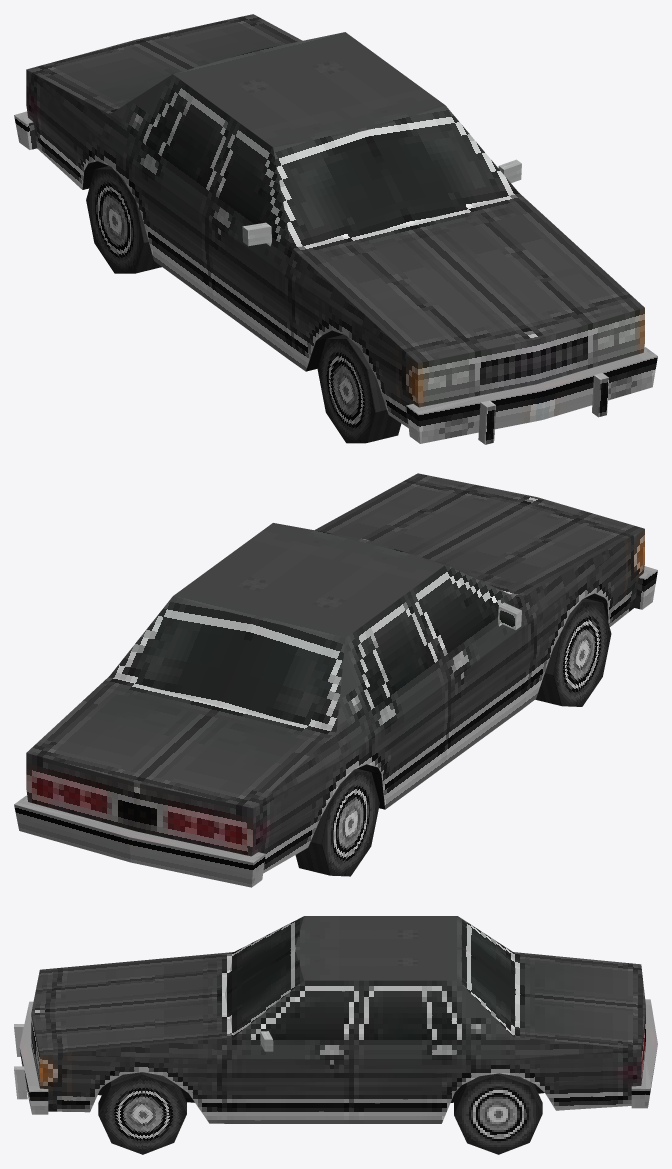
Rendered from car5-grey.lod.glb.
3 views of the same model, one above another, from view 1: azimuth 30°, elevation 25°; view 2: azimuth 150°, elevation 25°; view 3: azimuth 270°, elevation 25° (orthographic). The views are drawn at different scales.
Parts seen in each view (by area): view 1: Car5; view 2: Car5; view 3: Car5.
Boxes of the visible parts, x1,y1,x2,y2 form: Car5: (14,14,657,444); Car5: (14,473,657,887); Car5: (14,916,657,1154).
Bounding box in the file's own units: 2.78 × 2.05 × 7.37.
1 material, 1 textured.
